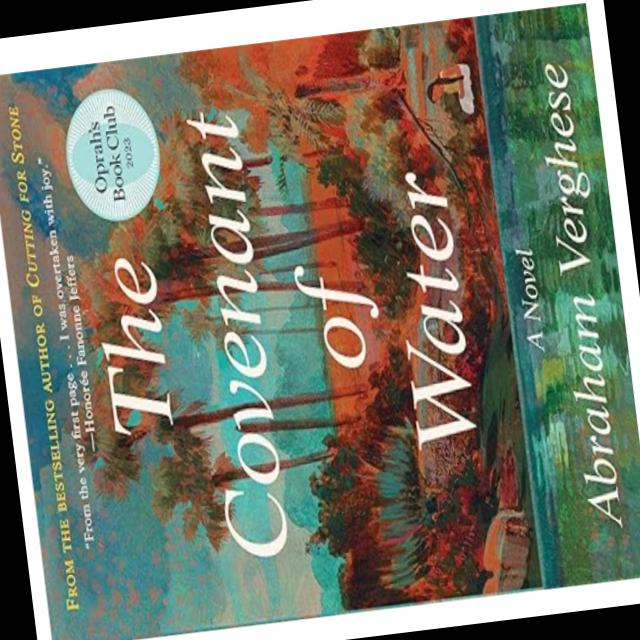titles-or-authors: (70, 74, 503, 579), (524, 45, 636, 542)
